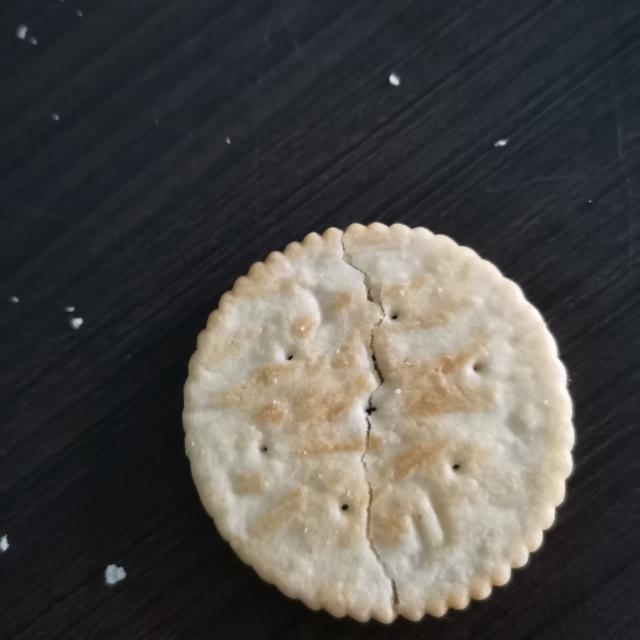Fracture: (318, 227, 425, 623)
